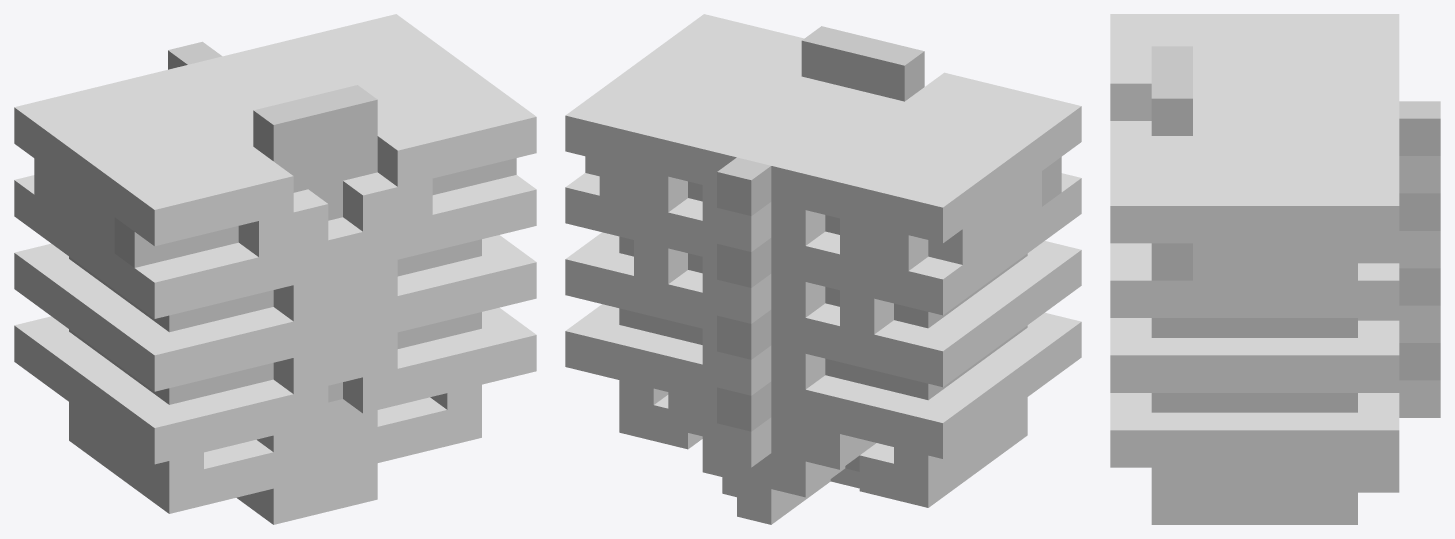
The model's file is Skeleton-6.obj.
3 views of the same model, side by side, from view 1: azimuth 30°, elevation 25°; view 2: azimuth 150°, elevation 25°; view 3: azimuth 270°, elevation 25° (orthographic). The views are drawn at different scales.
Size of the model in its own units: 1.1 by 1.1 by 0.8.
Materials: 1 (1 with a texture image).
